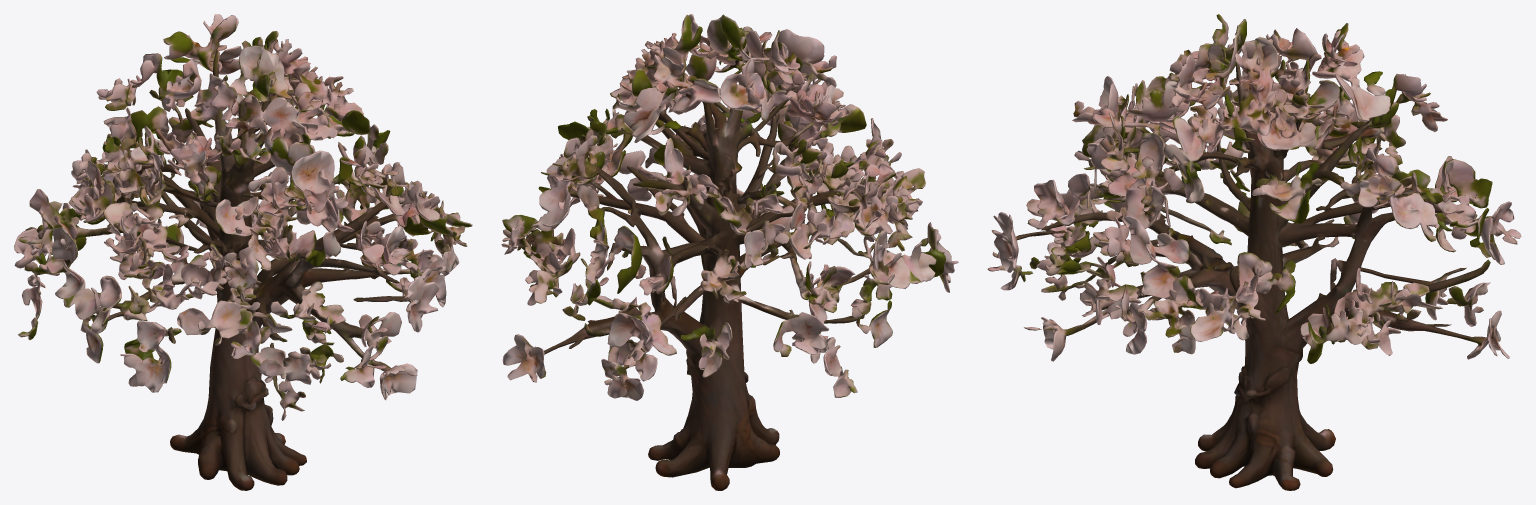
The model's file is nature-tree-sakura.glb.
3 views of the same model, side by side, from view 1: azimuth 30°, elevation 25°; view 2: azimuth 150°, elevation 25°; view 3: azimuth 270°, elevation 25° (orthographic). The views are drawn at different scales.
Parts seen in each view (by area): view 1: tripo_node_9a8e451e-88db-4bbc-bfd4-8b5c511cc0ef; view 2: tripo_node_9a8e451e-88db-4bbc-bfd4-8b5c511cc0ef; view 3: tripo_node_9a8e451e-88db-4bbc-bfd4-8b5c511cc0ef.
Boxes of the visible parts, x1,y1,x2,y2 form: tripo_node_9a8e451e-88db-4bbc-bfd4-8b5c511cc0ef: (14,14,472,490); tripo_node_9a8e451e-88db-4bbc-bfd4-8b5c511cc0ef: (501,14,958,490); tripo_node_9a8e451e-88db-4bbc-bfd4-8b5c511cc0ef: (987,14,1521,490).
Bounding box in the file's own units: 6.6 × 7 × 7.63.
1 material, 1 textured.
